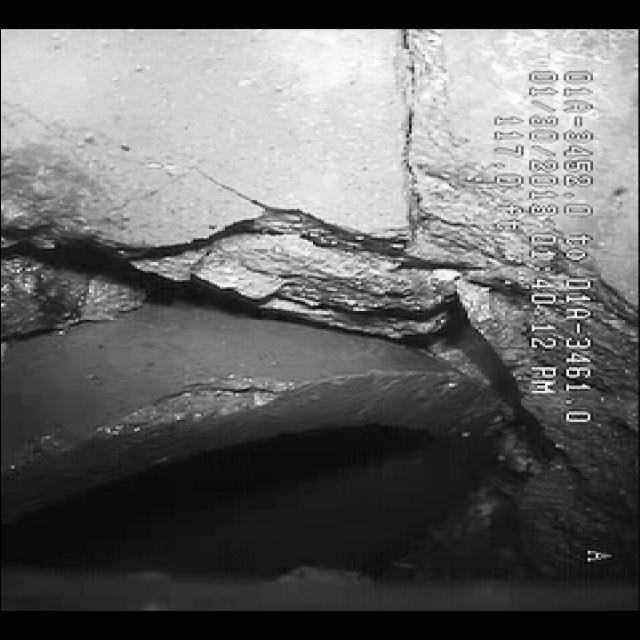Fracture: (90, 45, 497, 382)
